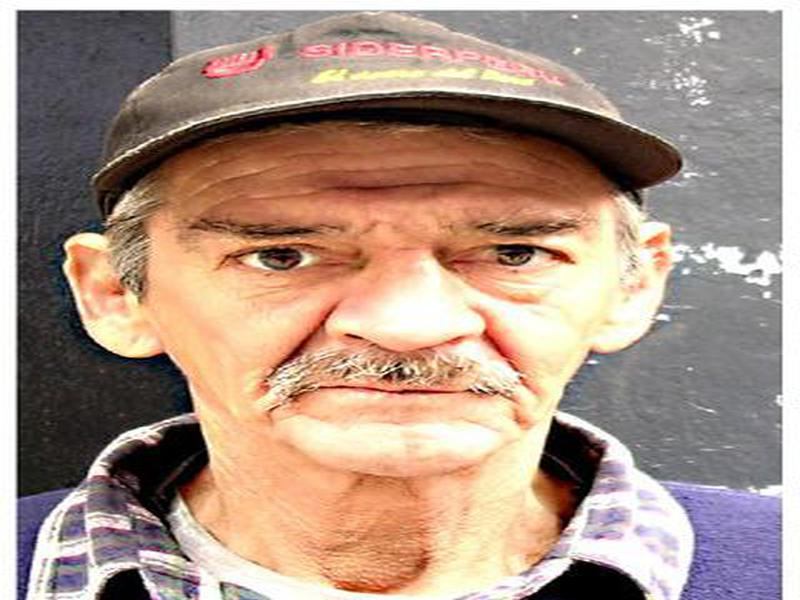without_mask: (149, 163, 616, 480)
